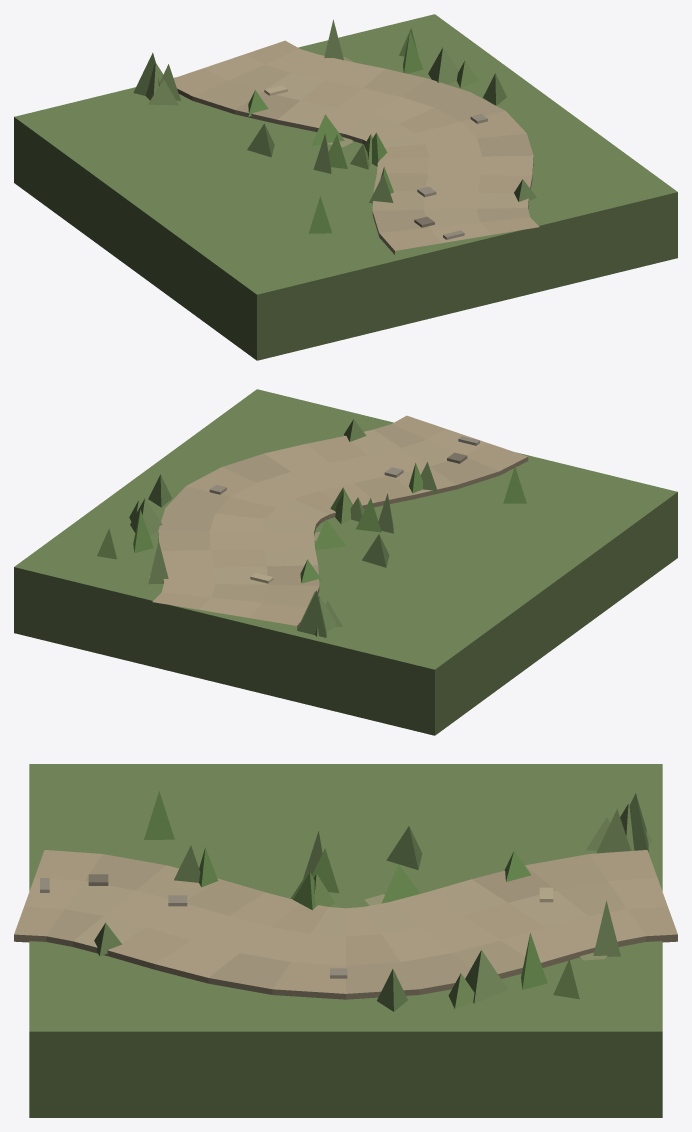
The model's file is t_footpath_9.glb.
3 views of the same model, one above another, from view 1: azimuth 30°, elevation 25°; view 2: azimuth 150°, elevation 25°; view 3: azimuth 270°, elevation 25° (orthographic). The views are drawn at different scales.
Parts seen in each view (by area): view 1: t_footpath_9; view 2: t_footpath_9; view 3: t_footpath_9.
Boxes of the visible parts, x1,y1,x2,y2 form: t_footpath_9: (14, 14, 677, 360); t_footpath_9: (14, 389, 677, 735); t_footpath_9: (14, 764, 677, 1117).
Bounding box in the file's own units: 2 × 0.4858 × 2.1.
